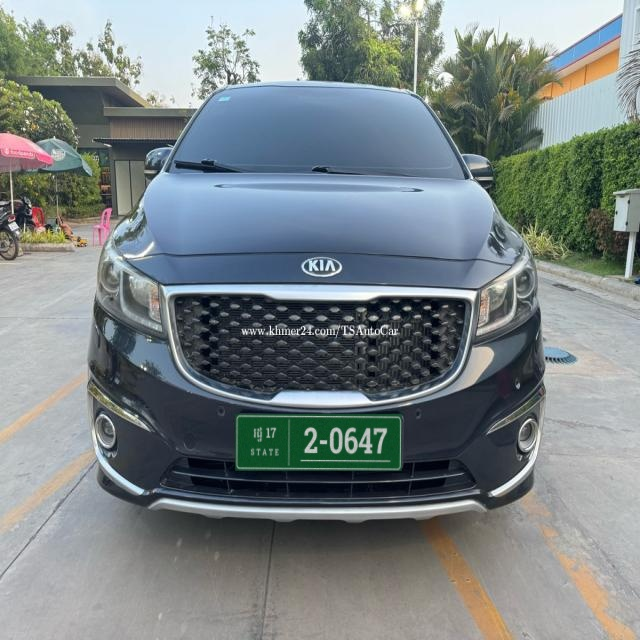Plate Number: (235, 414, 402, 471)
